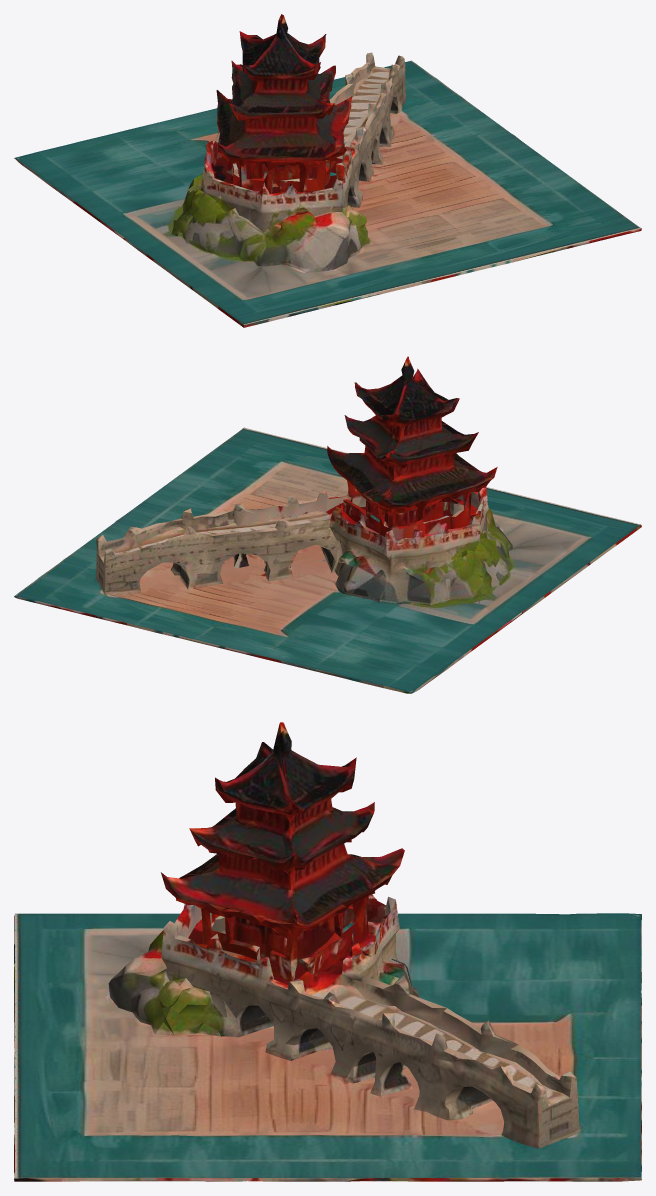
Rendered from jiaxiu-pavilion.glb.
The picture shows the model from 3 angles, top to bottom: view 1: azimuth 30°, elevation 25°; view 2: azimuth 150°, elevation 25°; view 3: azimuth 270°, elevation 25°; orthographic projection. The views are drawn at different scales.
Parts seen in each view (by area): view 1: logan-textured.obj; view 2: logan-textured.obj; view 3: logan-textured.obj.
Boxes of the visible parts, left/top/right/bottom form: logan-textured.obj: left=14, top=14, right=641, bottom=327; logan-textured.obj: left=14, top=356, right=641, bottom=693; logan-textured.obj: left=14, top=722, right=641, bottom=1181.
Bounding box in the file's own units: 1 × 0.5257 × 0.9997.
1 material, 1 textured.
